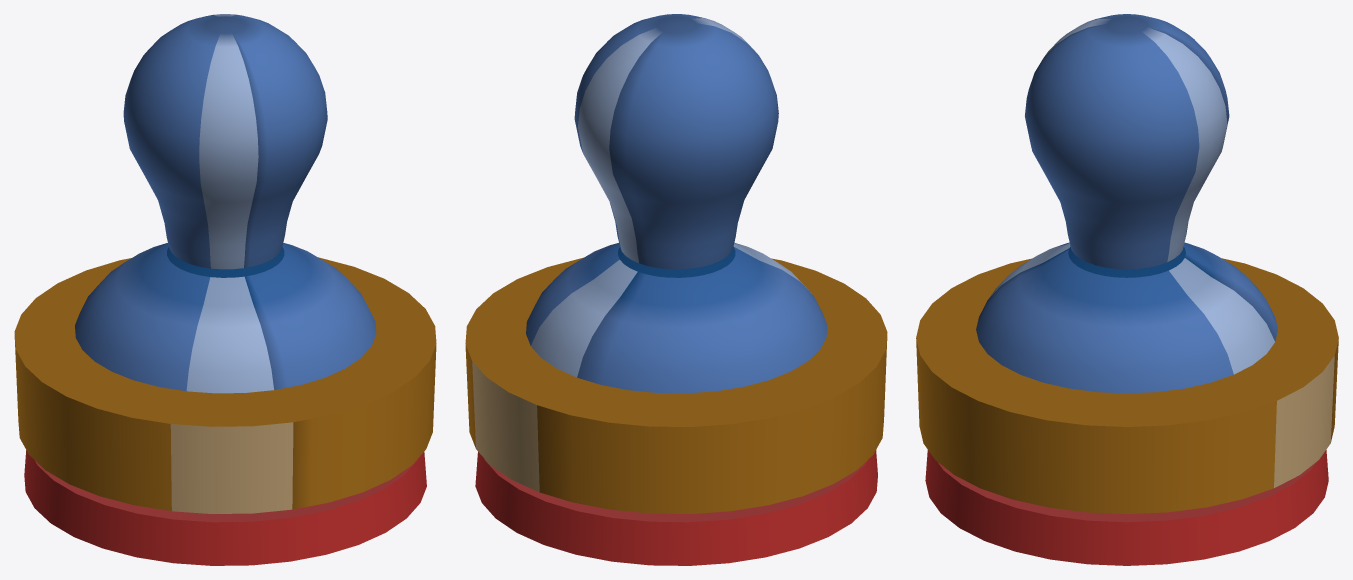
File: tool_stamp.glb
3 renders of one model, left to right at view 1: azimuth 30°, elevation 25°; view 2: azimuth 150°, elevation 25°; view 3: azimuth 270°, elevation 25°, orthographic.
Visible parts, largest first — view 1: Stamp; view 2: Stamp; view 3: Stamp.
Part boxes in pixels (x1,y1,x2,y2): Stamp: (14,14,436,565); Stamp: (465,14,887,565); Stamp: (916,14,1338,565).
Size of the model in its own units: 3.85 by 4.6 by 3.85.
